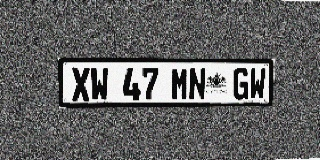4: (123, 67, 141, 101)
7: (141, 68, 159, 101)
G: (232, 68, 250, 100)
M: (171, 68, 188, 100)
N: (189, 68, 206, 100)
W: (90, 67, 109, 101), (249, 68, 266, 100)
X: (71, 67, 90, 101)
